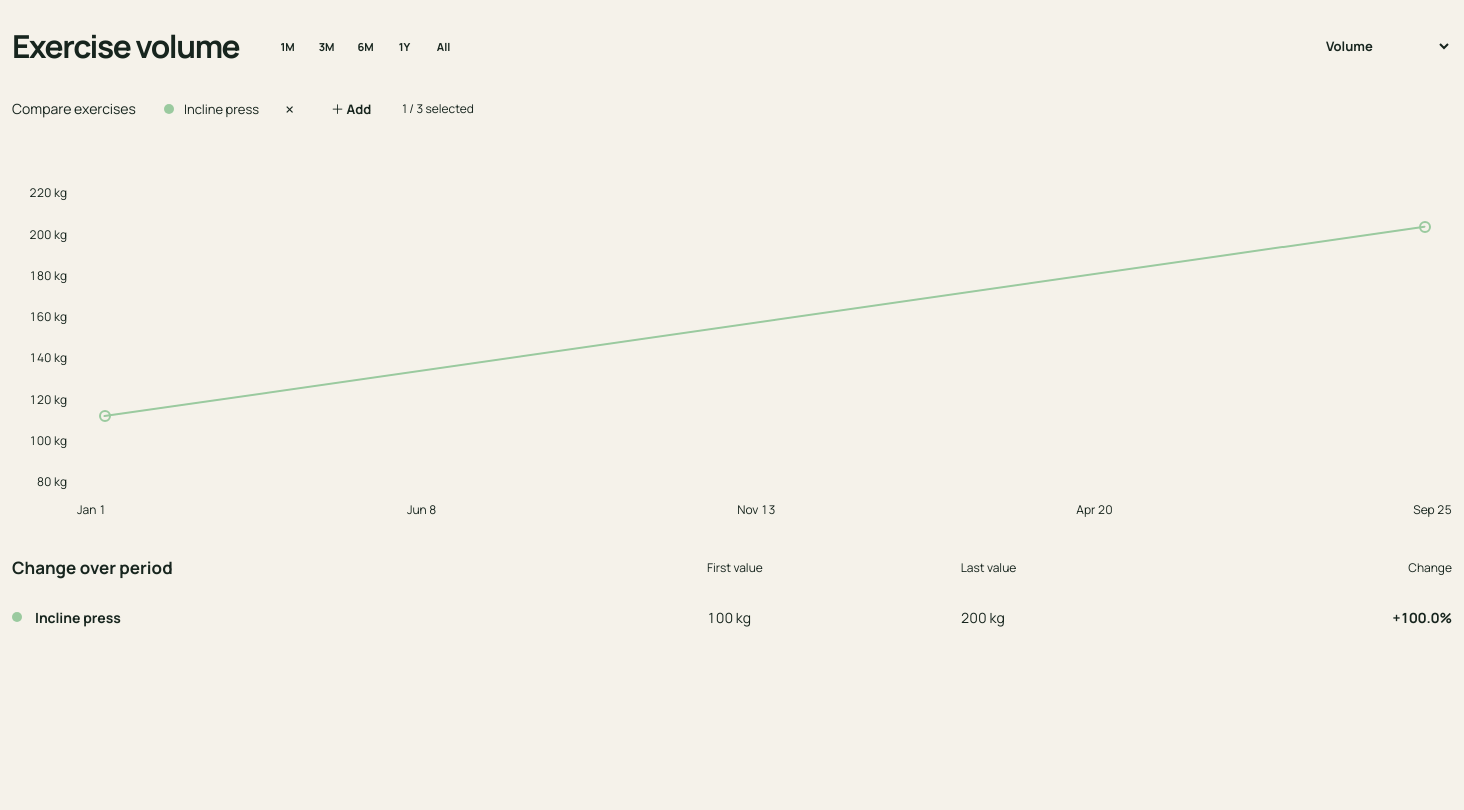
it: joins unlinked older workouts to a single known ID across date filters
Expected: the number of elements with class "analysis-chip" is 1, [152,89,307,128]
Expected: the number of buttons with class "analysis-point" is 2, [90,401,120,431]; [1410,212,1440,242]
Click the button "1M" at (288,46), box [268,30,307,62]
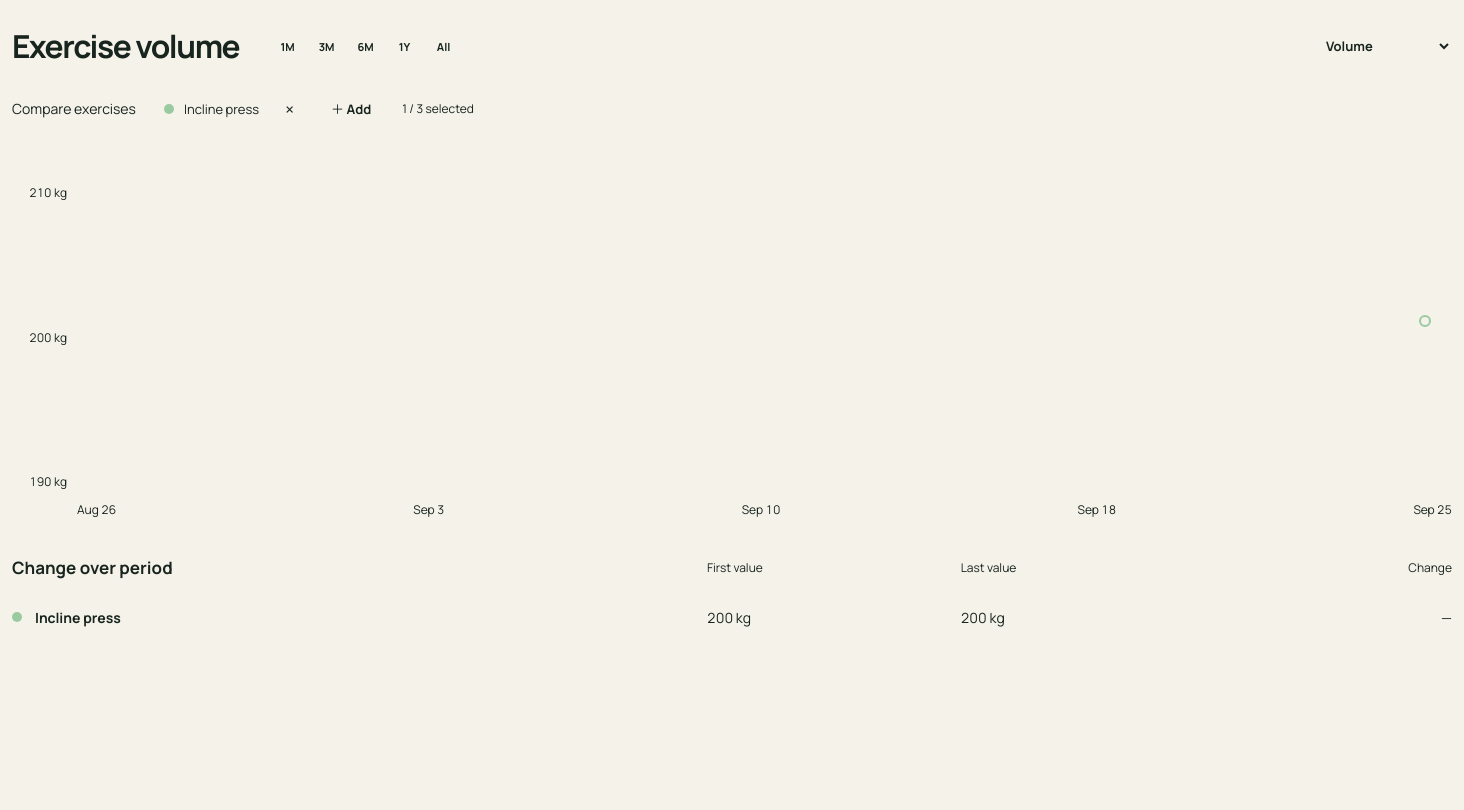
Result: the number of buttons with class "analysis-point" is 1 at [1410,306,1440,336]
Click the button "All" at (444,46), box [424,30,463,62]
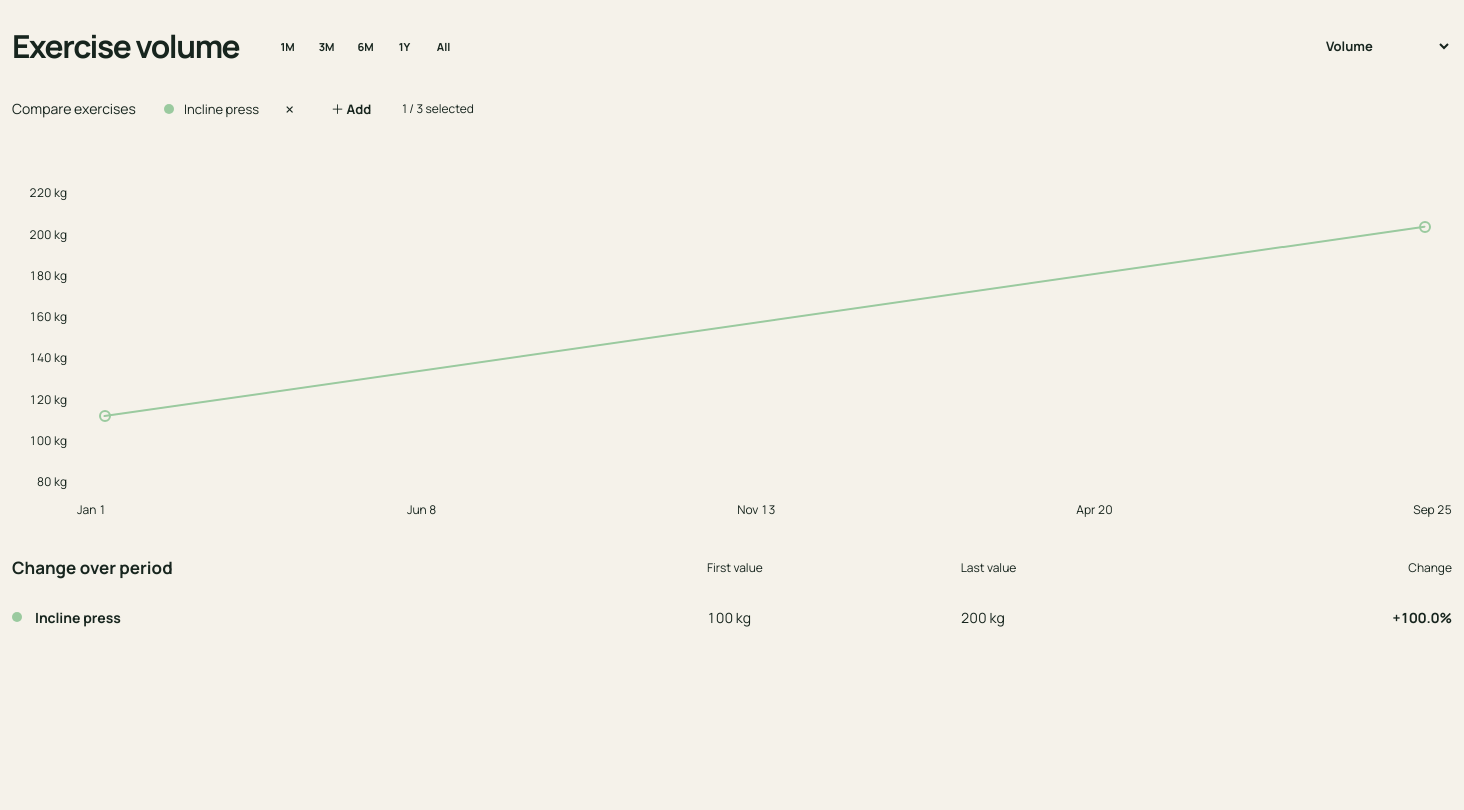
Result: the number of buttons with class "analysis-point" is 2 at [90,401,120,431]; [1410,212,1440,242]
